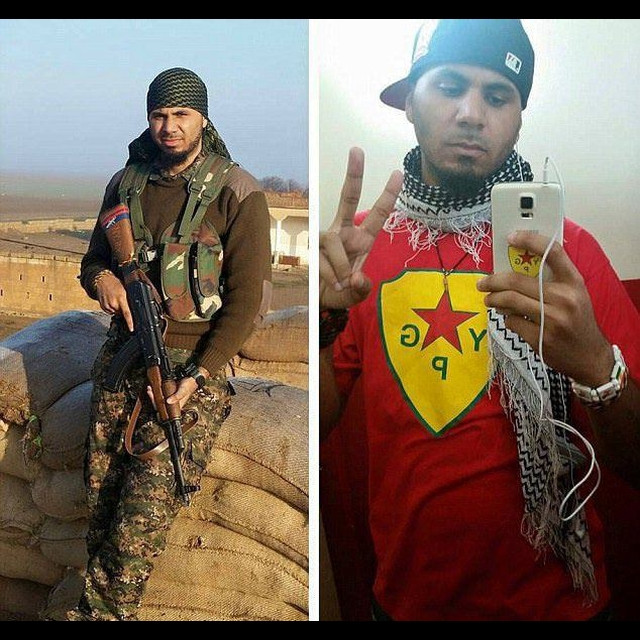AK47: (98, 265, 195, 507)
YPG: (401, 290, 489, 384)
